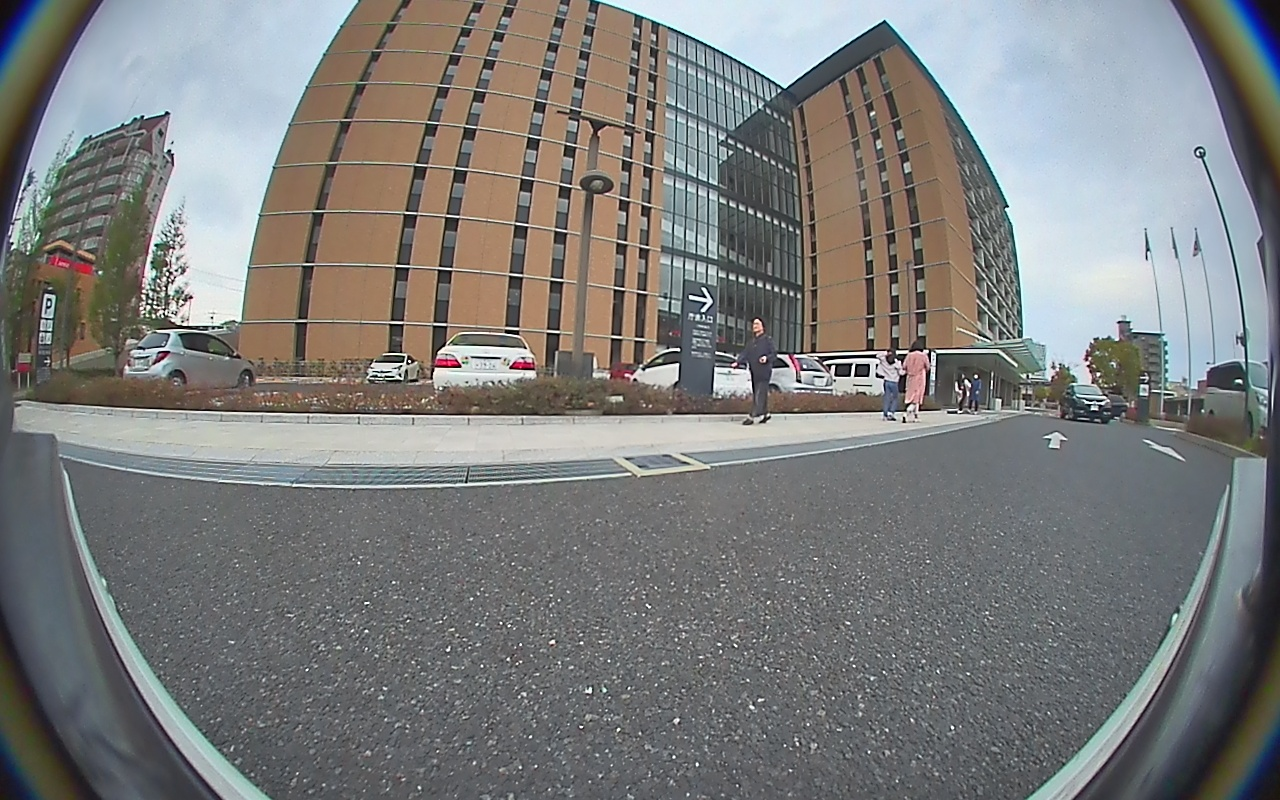car: (121, 327, 255, 396), (619, 346, 750, 410), (431, 331, 538, 402), (1196, 360, 1278, 445), (808, 353, 894, 403), (743, 355, 836, 401), (781, 355, 866, 400), (1058, 383, 1110, 422), (365, 351, 422, 384), (1077, 389, 1128, 420)
person: (734, 317, 777, 422), (897, 337, 932, 425), (874, 346, 905, 423), (953, 369, 974, 414), (962, 371, 982, 414)
